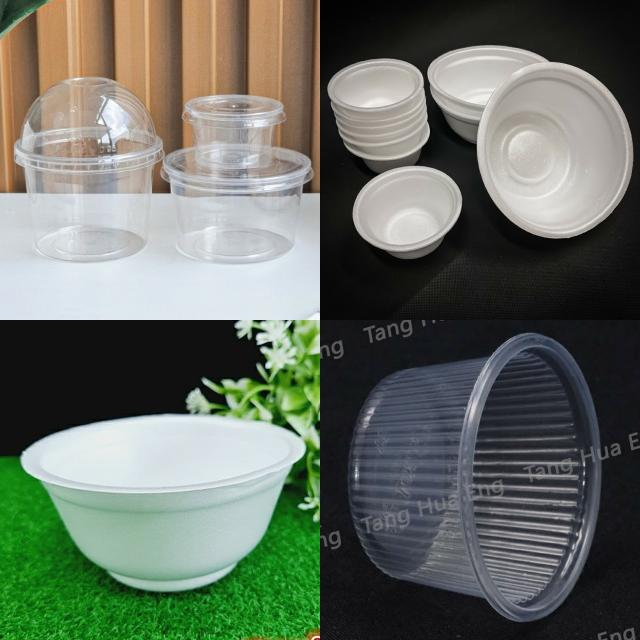Single-Use-Plastic: (349, 334, 605, 621), (21, 414, 305, 591), (15, 78, 164, 261), (478, 62, 632, 238), (161, 148, 312, 263), (428, 45, 546, 143), (352, 166, 462, 258), (328, 59, 428, 155), (182, 95, 285, 169)
